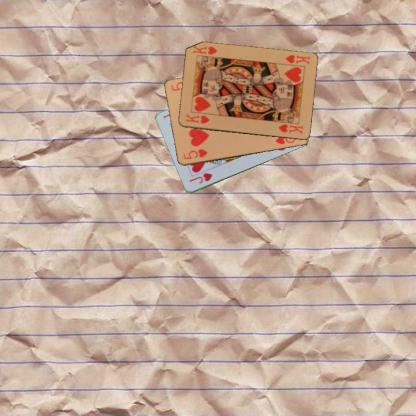5h: (181, 146, 208, 160)
Jh: (187, 170, 213, 185)
Kh: (282, 52, 311, 66), (183, 111, 210, 125)
